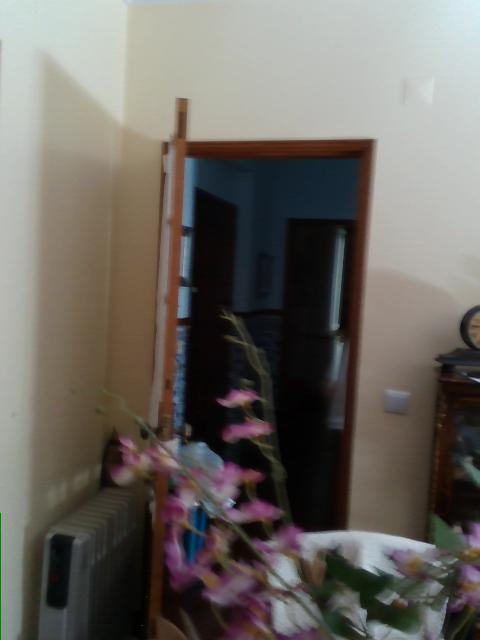open_door: (162, 139, 370, 532)
